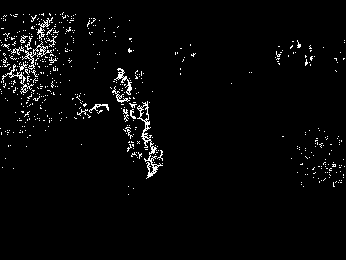person: (112, 66, 130, 105)
